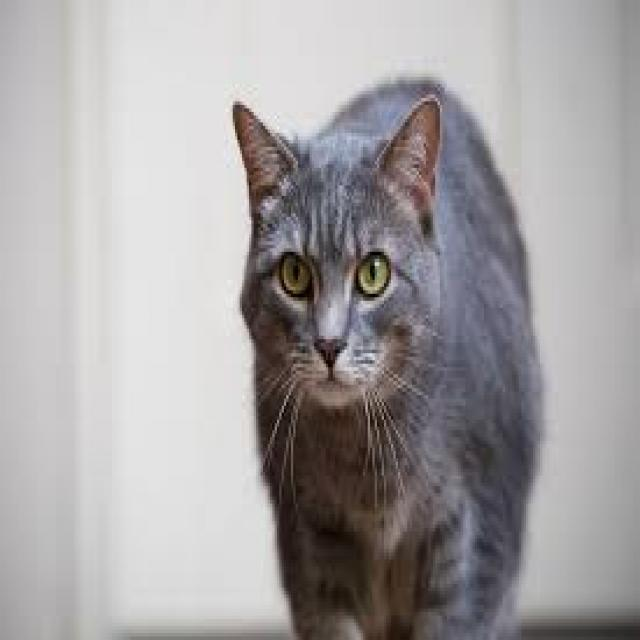Cat: (226, 63, 544, 640)
